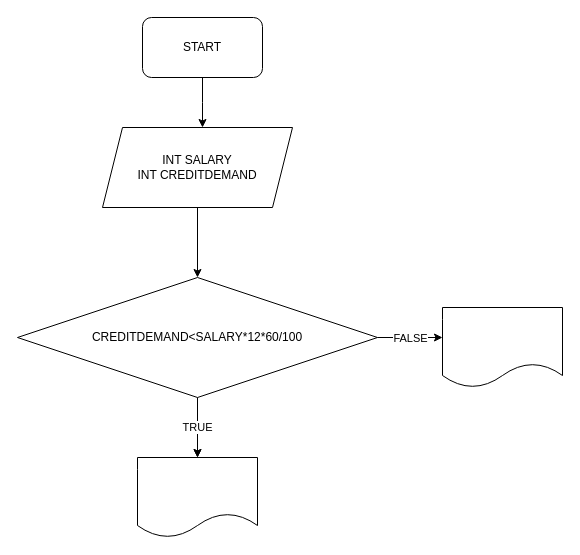
This 580x555 diagram has some shape labels left out. The centre of each missing label's shape, as x and y in pixels:
"NOT OKAY" goes at pixel 502 347.
"OK" goes at pixel 197 497.
